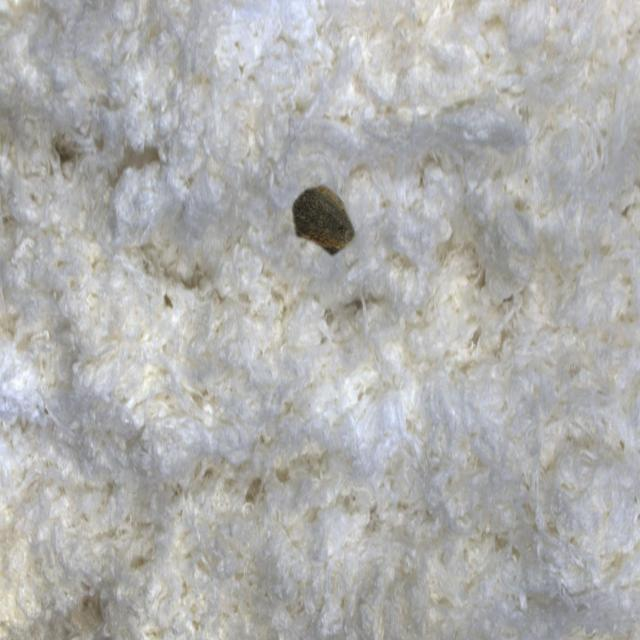dust: (275, 147, 389, 302)
